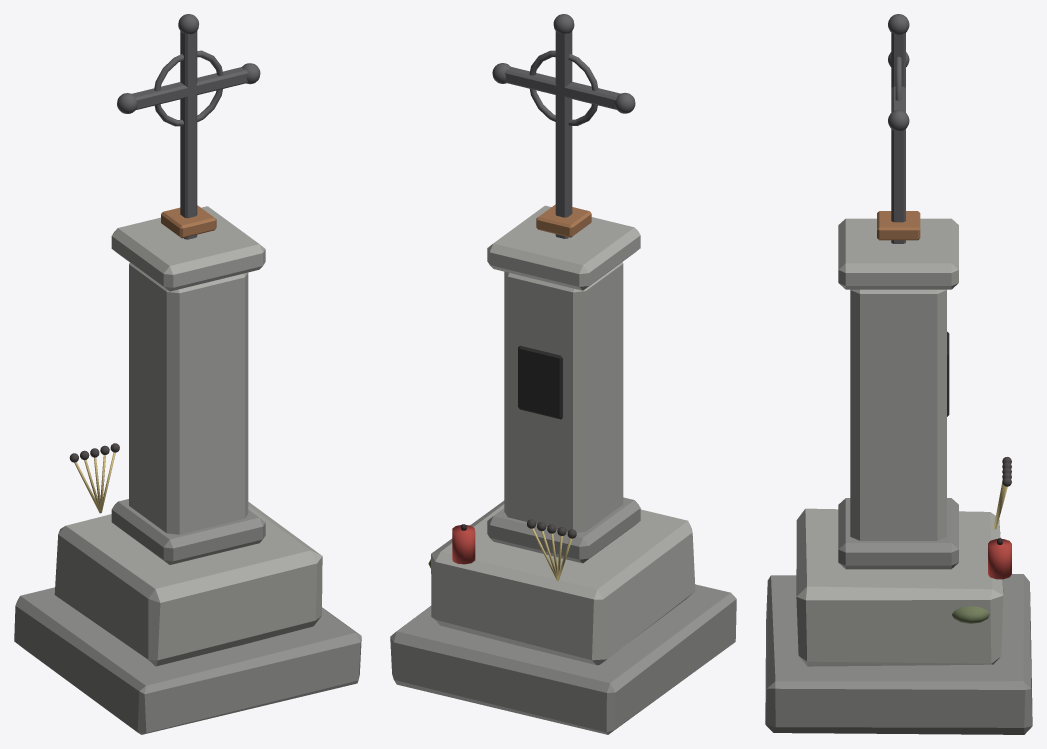
Rendered from v_cross.glb.
3 renders of one model, left to right at view 1: azimuth 30°, elevation 25°; view 2: azimuth 150°, elevation 25°; view 3: azimuth 270°, elevation 25°, orthographic. The views are drawn at different scales.
Visible parts, largest first — view 1: Cross; view 2: Cross; view 3: Cross.
Part boxes in pixels (x1,y1,x2,y2): Cross: (14,14,361,734); Cross: (390,14,736,734); Cross: (765,14,1032,734).
Size of what is drawn, in the model's own units: 1.1 by 3.05 by 1.11.
